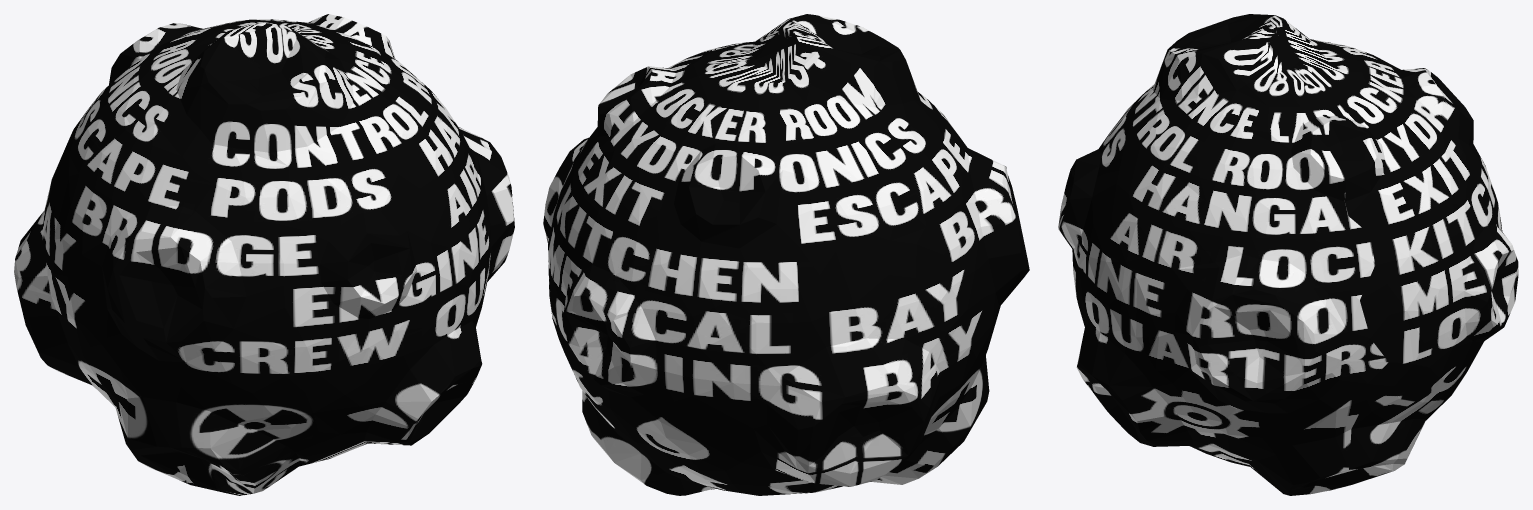
Rendered from space_SM_Env_Asteroid_07.gltf.
3 renders of one model, left to right at view 1: azimuth 30°, elevation 25°; view 2: azimuth 150°, elevation 25°; view 3: azimuth 270°, elevation 25°, orthographic. The views are drawn at different scales.
Parts seen in each view (by area): view 1: SM_Env_Asteroid_07; view 2: SM_Env_Asteroid_07; view 3: SM_Env_Asteroid_07.
Part boxes in pixels (x1=…): SM_Env_Asteroid_07: x1=14, y1=14, x2=514, y2=495; SM_Env_Asteroid_07: x1=543, y1=14, x2=1029, y2=495; SM_Env_Asteroid_07: x1=1058, y1=14, x2=1518, y2=495.
Size of the model in its own units: 266 by 272 by 265.
1 material, 1 textured.
